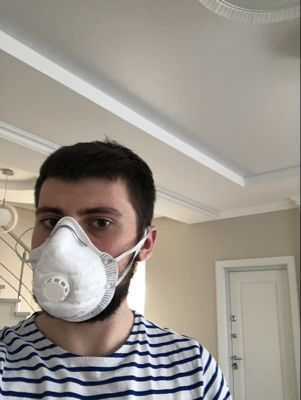with-mask: (28, 162, 155, 324)
